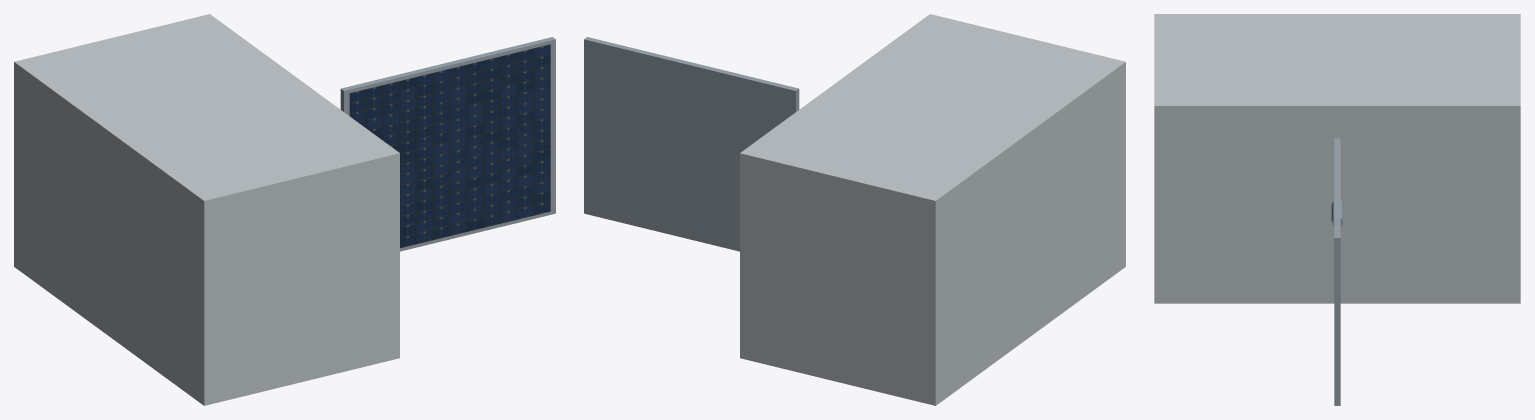
Rendered from ref-sentinel-3a-41335.glb.
The picture shows the model from 3 angles, left to right: view 1: azimuth 30°, elevation 25°; view 2: azimuth 150°, elevation 25°; view 3: azimuth 270°, elevation 25°; orthographic projection. The views are drawn at different scales.
Parts seen in each view (by area): view 1: Spacecraft body, Photovoltaic laminates, Array frame; view 2: Spacecraft body, Array frame; view 3: Spacecraft body, Array frame.
Part boxes in pixels (<box>): Spacecraft body: <box>14,14,399,405</box>; Photovoltaic laminates: <box>349,44,550,248</box>; Array frame: <box>340,37,555,251</box>; Spacecraft body: <box>740,14,1125,405</box>; Array frame: <box>584,37,799,251</box>; Spacecraft body: <box>1154,14,1520,303</box>; Array frame: <box>1334,138,1340,405</box>.
Bounding box in the file's own units: 5 × 2.2 × 3.7.
3 materials, 1 textured.
